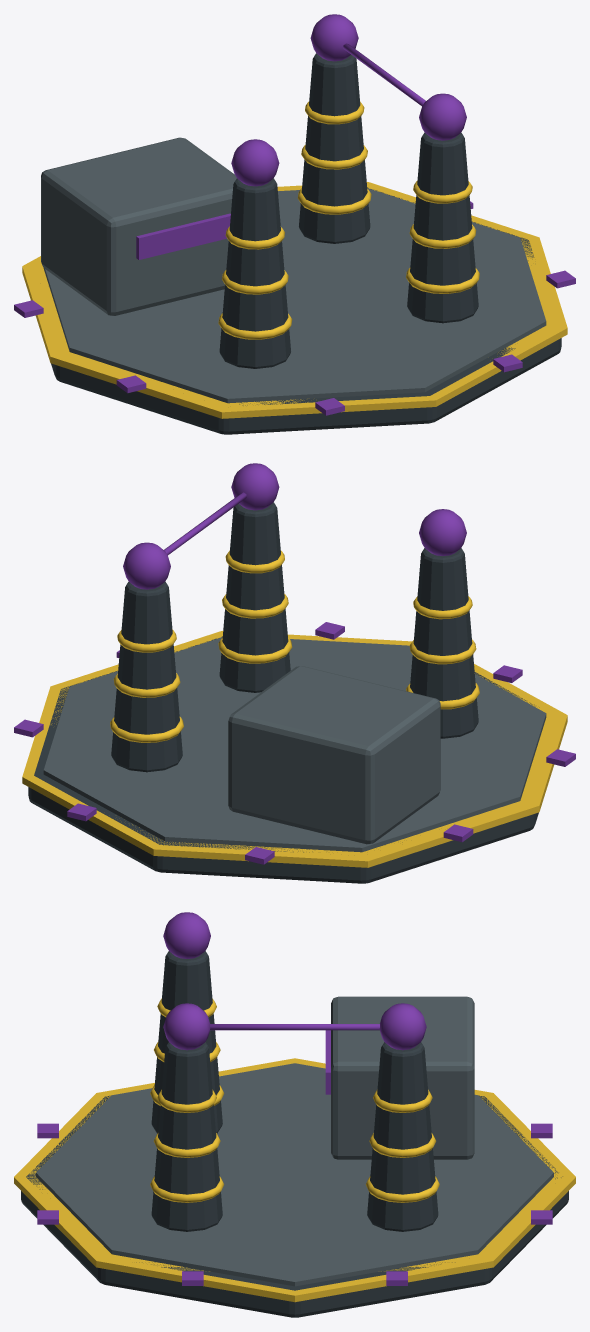
The model's file is arc_yard.fbx.
3 renders of one model, top to bottom at view 1: azimuth 30°, elevation 25°; view 2: azimuth 150°, elevation 25°; view 3: azimuth 270°, elevation 25°, orthographic.
Parts seen in each view (by area): view 1: arc_yard, ANIM_pulse_2__orb0, ANIM_pulse_2.8__orb2, ANIM_pulse_2.4__orb1, ANIM_pulse_3__arc; view 2: arc_yard, ANIM_pulse_2.4__orb1, ANIM_pulse_2.8__orb2, ANIM_pulse_2__orb0, ANIM_pulse_3__arc; view 3: arc_yard, ANIM_pulse_2.8__orb2, ANIM_pulse_2__orb0, ANIM_pulse_2.4__orb1, ANIM_pulse_3__arc.
Boxes of the visible parts, <box> form: arc_yard: <box>14,53,575,434</box>; ANIM_pulse_2__orb0: <box>419,93,466,140</box>; ANIM_pulse_2.8__orb2: <box>231,139,279,186</box>; ANIM_pulse_2.4__orb1: <box>310,14,358,61</box>; ANIM_pulse_3__arc: <box>343,43,425,106</box>; arc_yard: <box>14,502,575,883</box>; ANIM_pulse_2.4__orb1: <box>123,542,170,589</box>; ANIM_pulse_2.8__orb2: <box>419,509,466,555</box>; ANIM_pulse_2__orb0: <box>231,463,279,510</box>; ANIM_pulse_3__arc: <box>164,492,246,555</box>; arc_yard: <box>14,951,575,1317</box>; ANIM_pulse_2.8__orb2: <box>163,912,210,958</box>; ANIM_pulse_2__orb0: <box>163,1003,210,1050</box>; ANIM_pulse_2.4__orb1: <box>379,1003,426,1050</box>; ANIM_pulse_3__arc: <box>210,1024,379,1030</box>.
Size of the model in its own units: 4.69 by 2.25 by 4.69.
